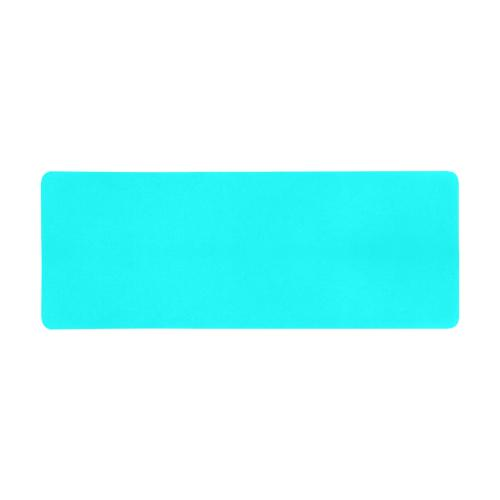cyan_zone: (39, 168, 461, 333)
